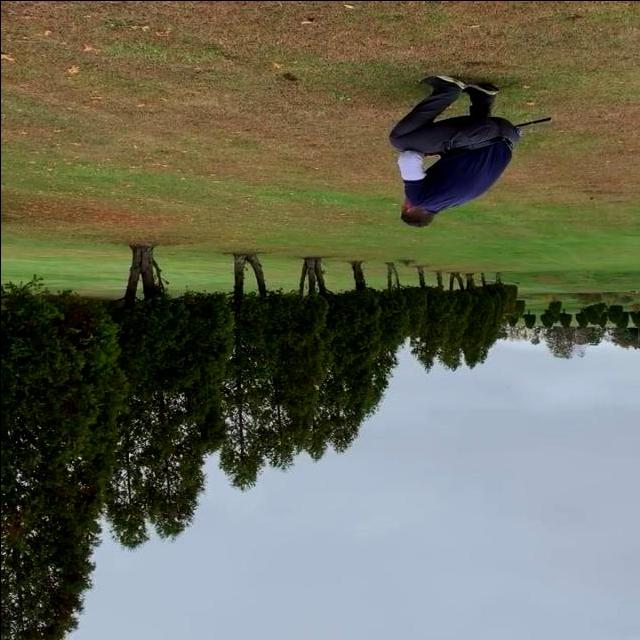ClubHandle: (515, 116, 553, 127)
